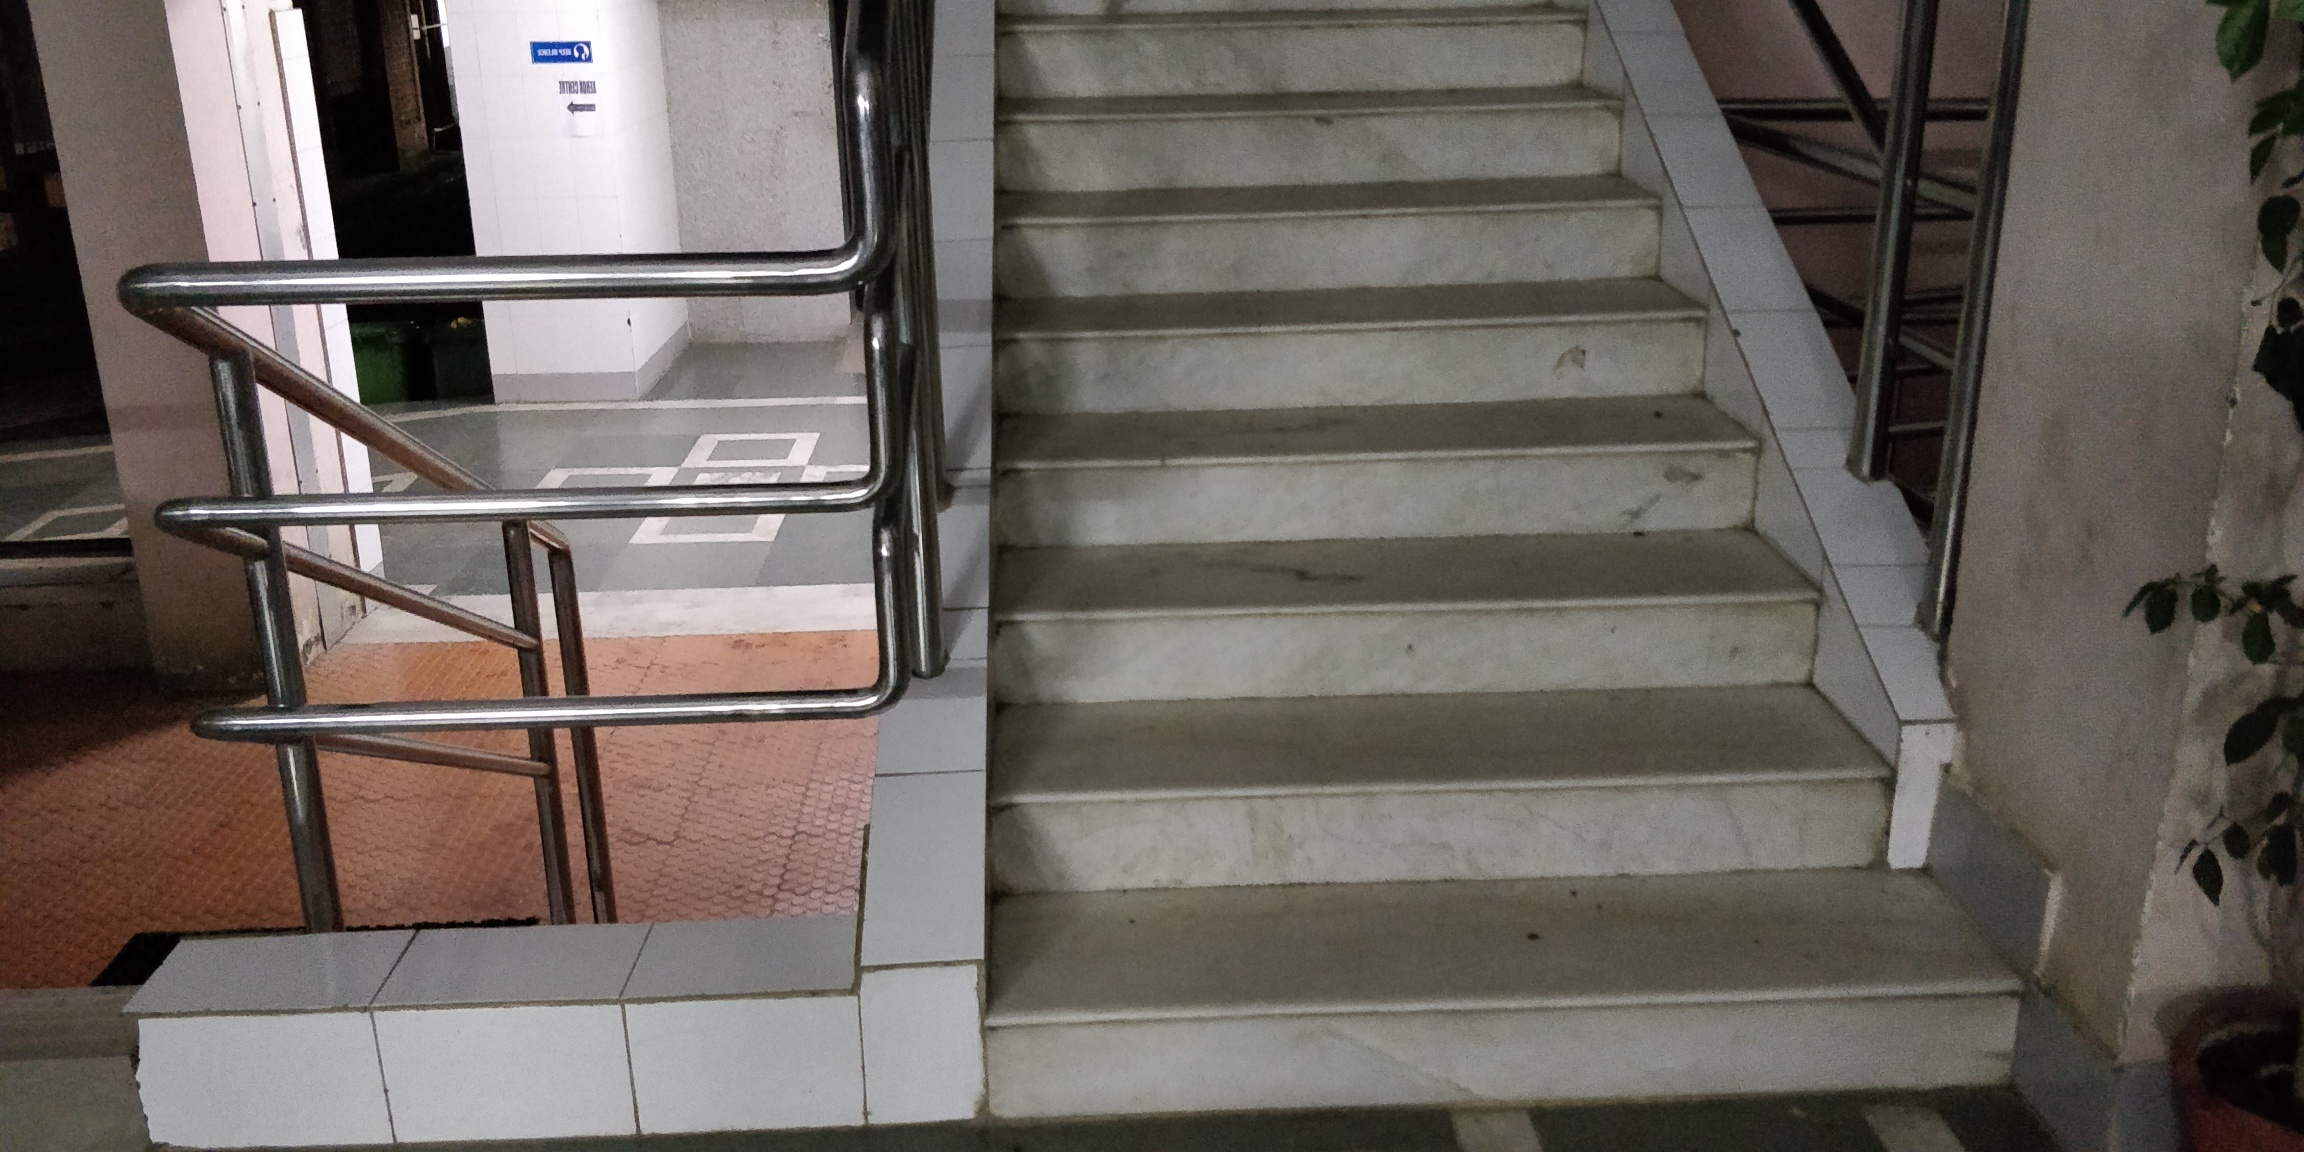stairs_up: (982, 24, 2054, 1099)
